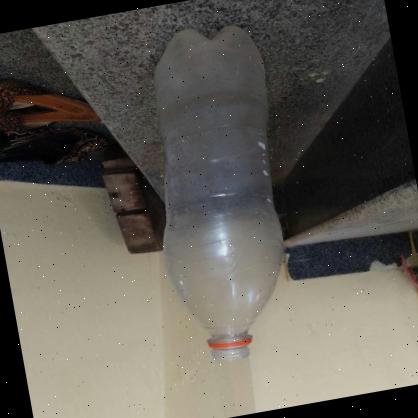bottle: (121, 6, 328, 376)
